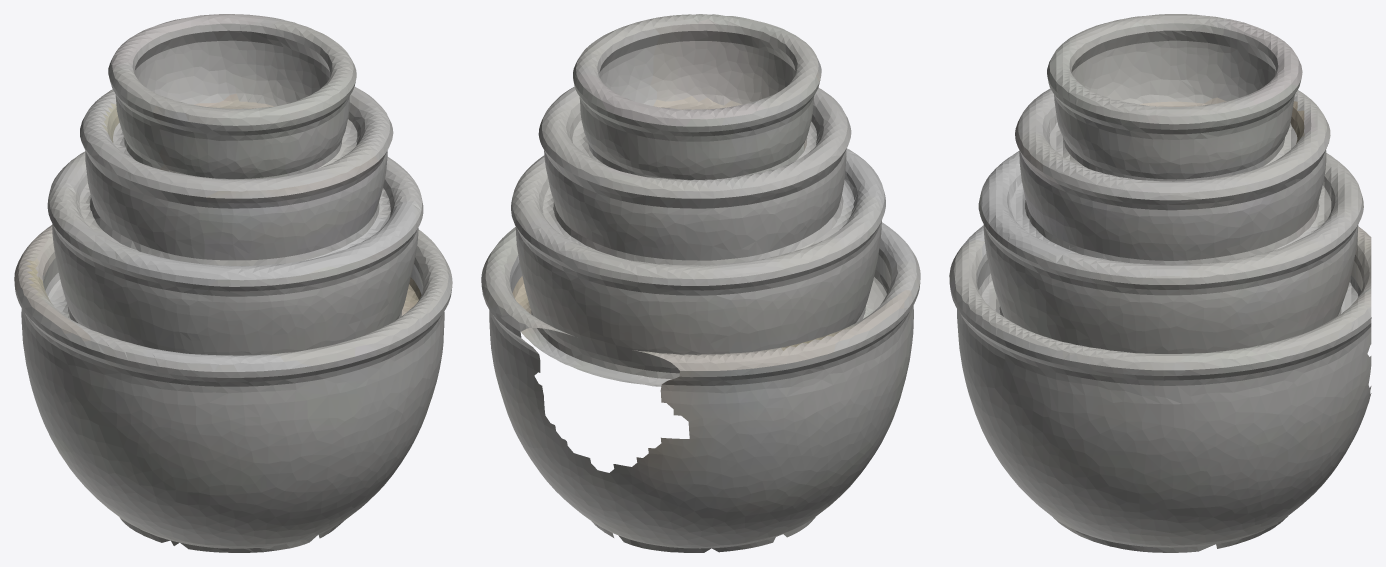
Rendered from garak_bowls.glb.
The picture shows the model from 3 angles, left to right: view 1: azimuth 30°, elevation 25°; view 2: azimuth 150°, elevation 25°; view 3: azimuth 270°, elevation 25°; orthographic projection.
Parts seen in each view (by area): view 1: bowls2.obj; view 2: bowls2.obj; view 3: bowls2.obj.
Part boxes in pixels (bbox=[...]): bowls2.obj: bbox=[14, 14, 452, 552]; bowls2.obj: bbox=[481, 14, 920, 552]; bowls2.obj: bbox=[949, 14, 1371, 552].
Size of the model in its own units: 0.4127 by 0.4575 by 0.3961.
1 material, 1 textured.
